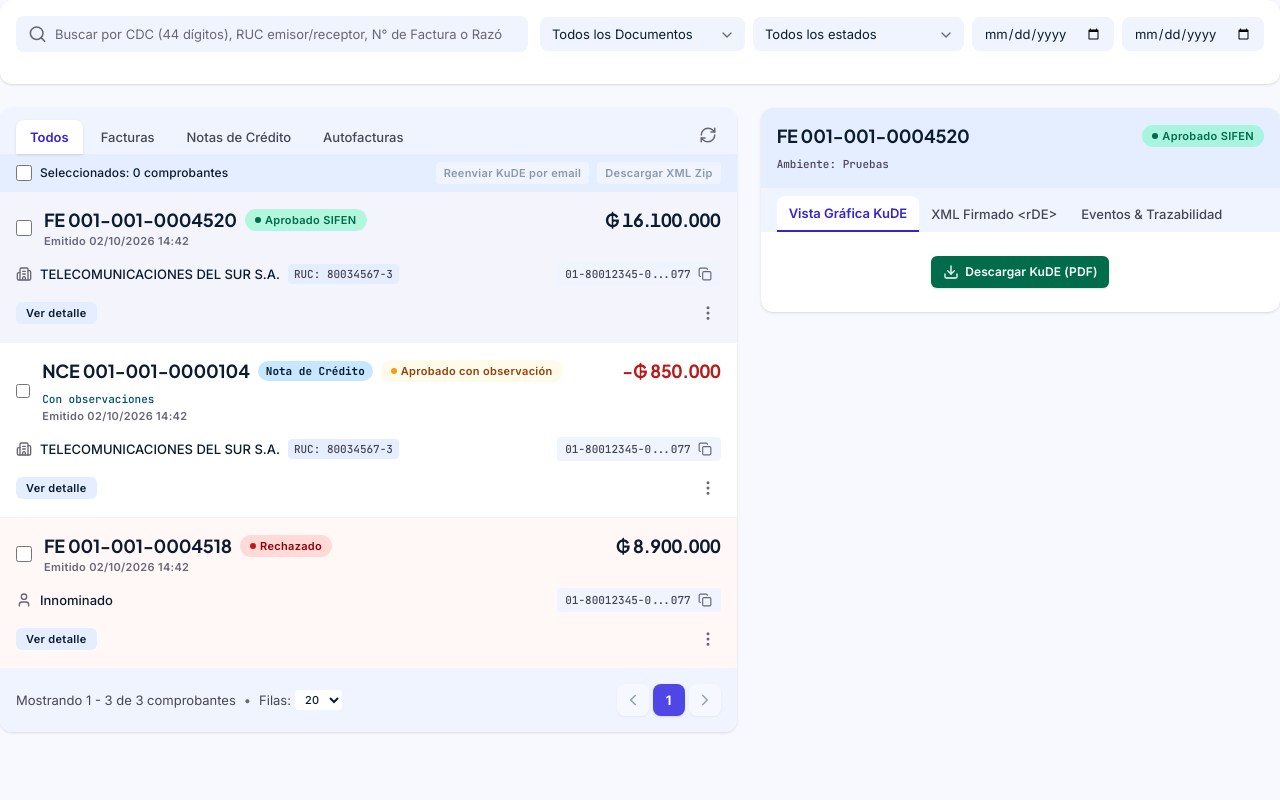
DocumentsBrowser (type tabs and selection) › selects rows and enables the bulk actions only with a selection
Expected: the button "Descargar XML Zip" is disabled, [597, 162, 721, 184]
Expected: the text "Seleccionados: 0 comprobantes" is shown, [40, 165, 228, 181]
Click the checkbox named "Seleccionar FE 001-001-0004520" at (24, 228), box [16, 220, 32, 236]
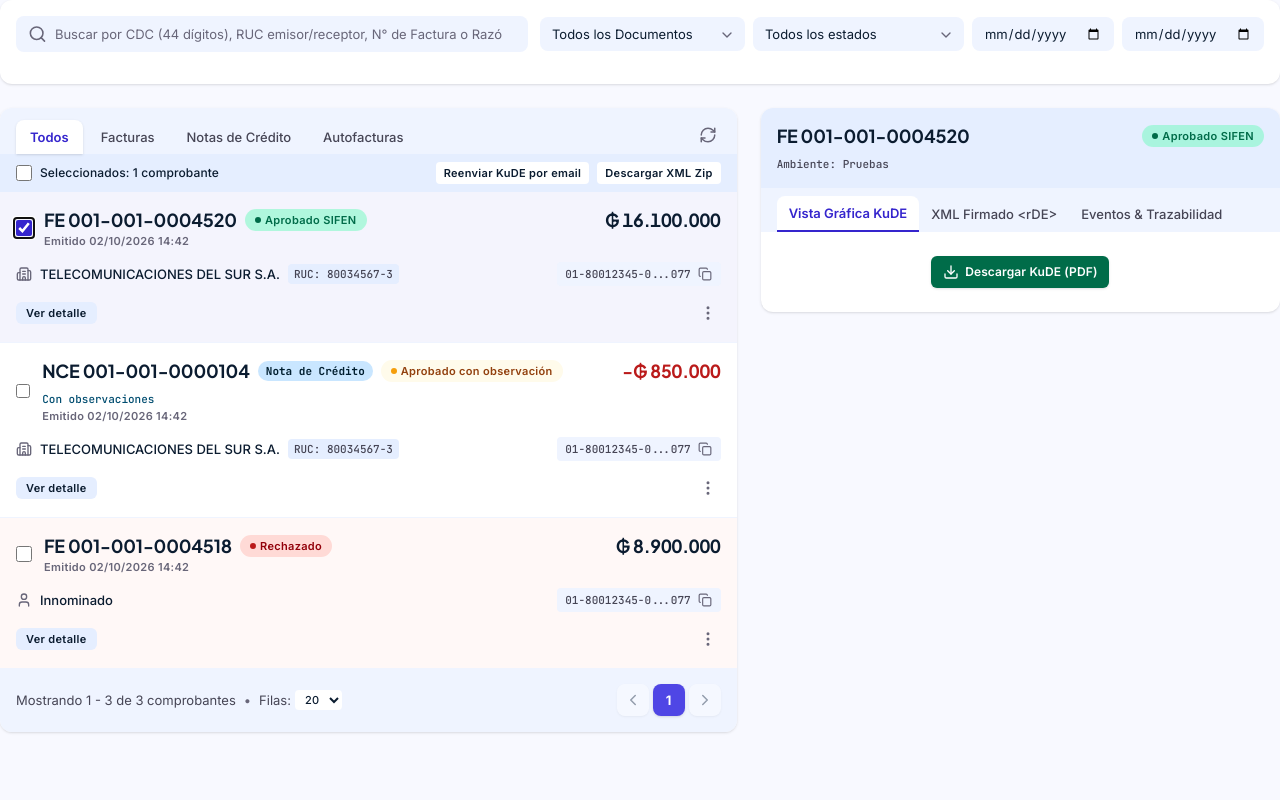
Now the text "Seleccionados: 1 comprobante" is shown, box [40, 165, 219, 181]
Now the button "Descargar XML Zip" is enabled, box [597, 162, 721, 184]
Click the checkbox named "Seleccionar todos los comprobantes" at (24, 173), box [16, 165, 32, 181]
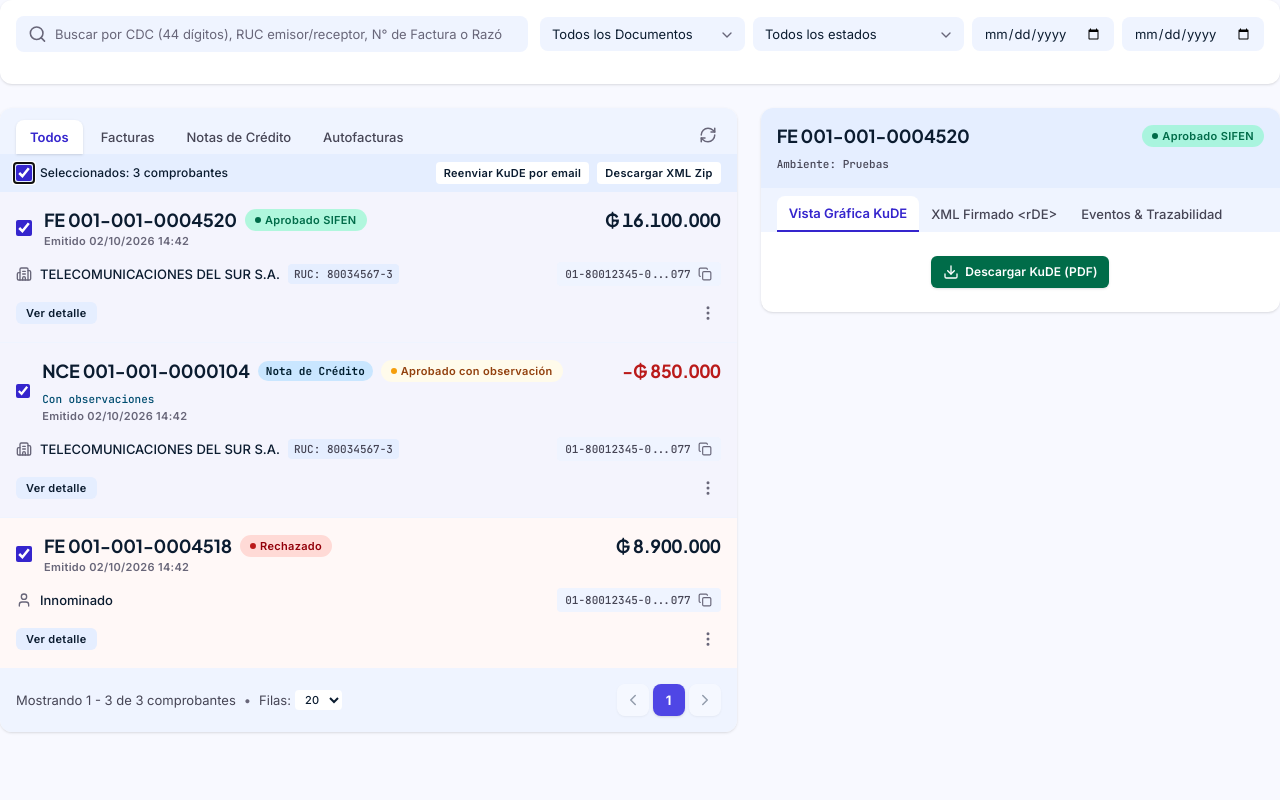
Now the text "Seleccionados: 3 comprobantes" is shown, box [40, 165, 228, 181]
Click the checkbox named "Seleccionar todos los comprobantes" at (24, 173), box [16, 165, 32, 181]
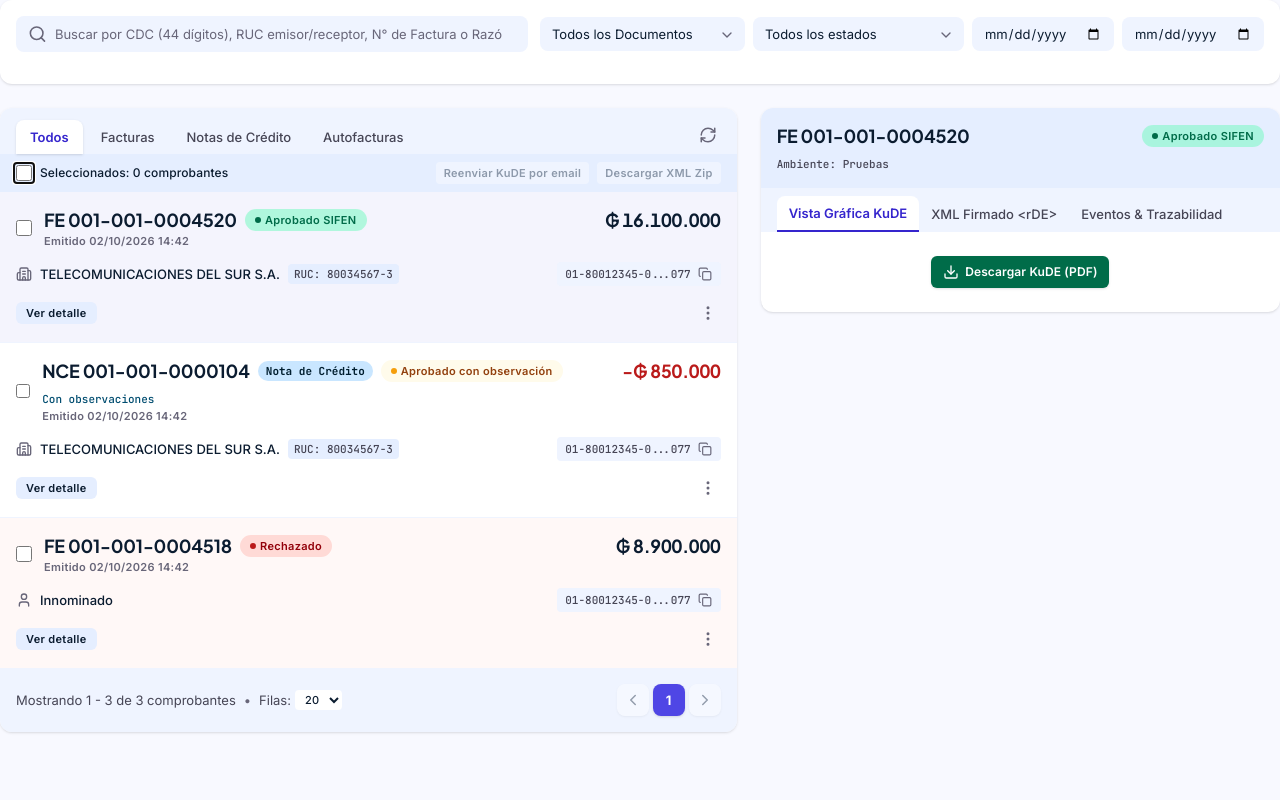
Now the text "Seleccionados: 0 comprobantes" is shown, box [40, 165, 228, 181]
